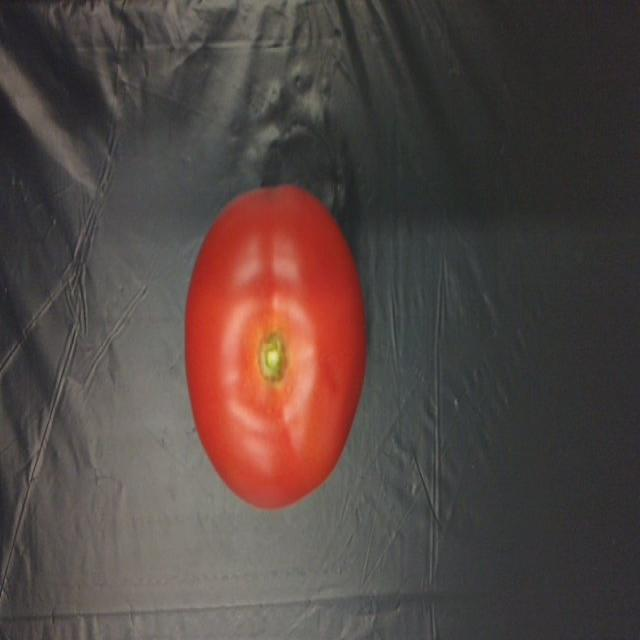kirmizi: (176, 150, 410, 520)
